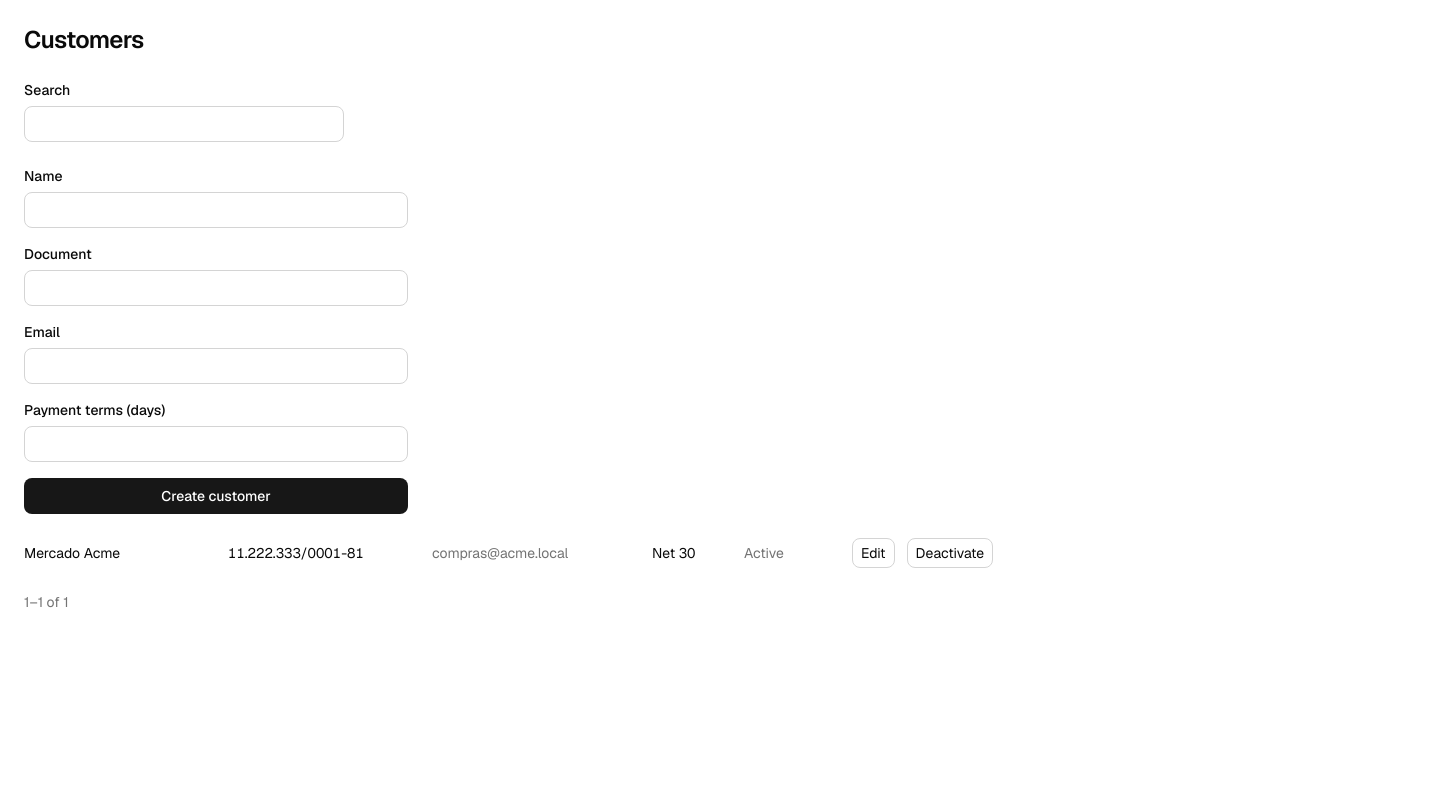
Test: customers panel › a refused status change surfaces as a toast, never inside the form
This screenshot has width=1440, height=810.
Expected: the text "Mercado Acme" is shown, [24,544,120,562]
Click the button with aria-label "Deactivate Mercado Acme" at [950, 553], box [907,538,993,568]
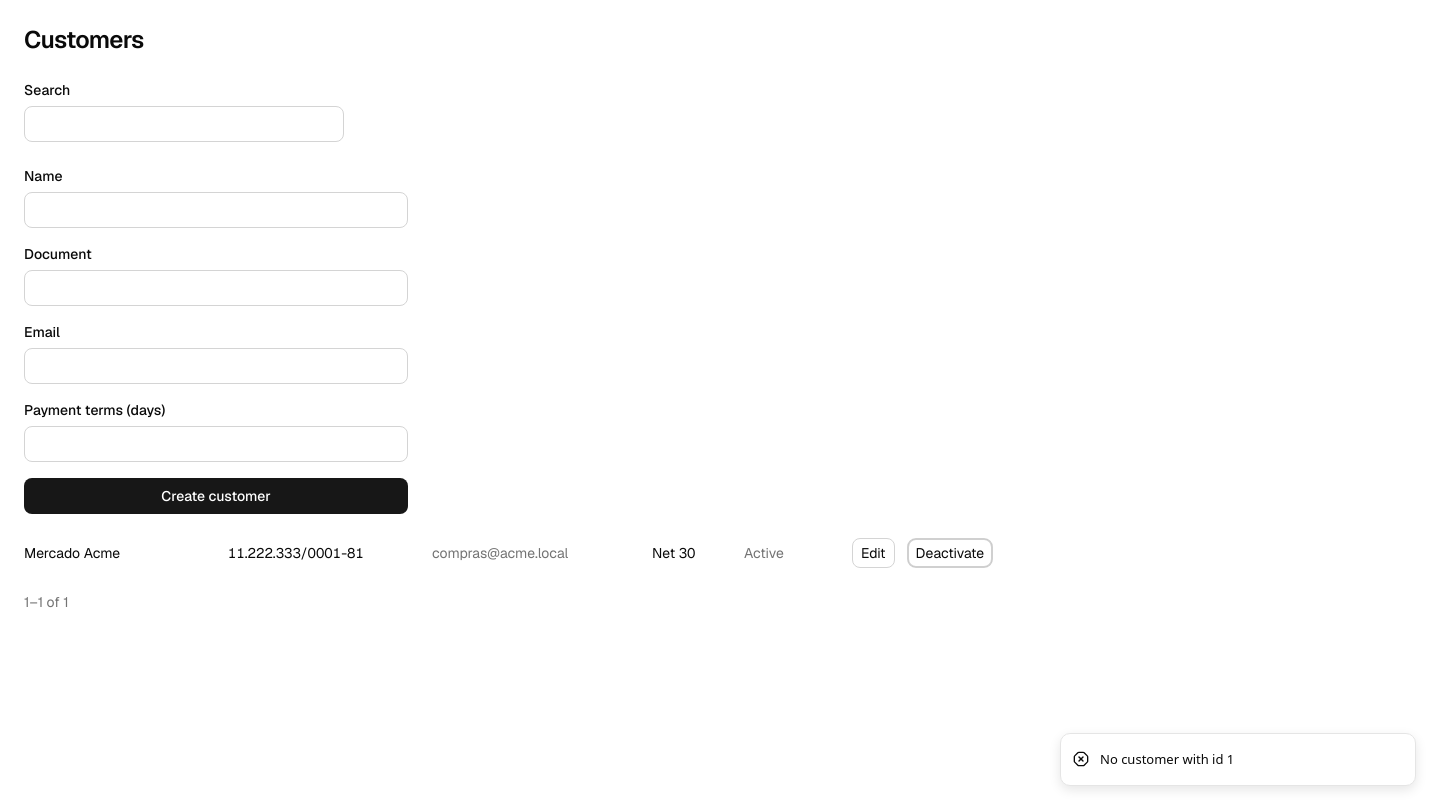
Expected: the text "No customer with id 1" is shown, [1100,750,1234,769]
